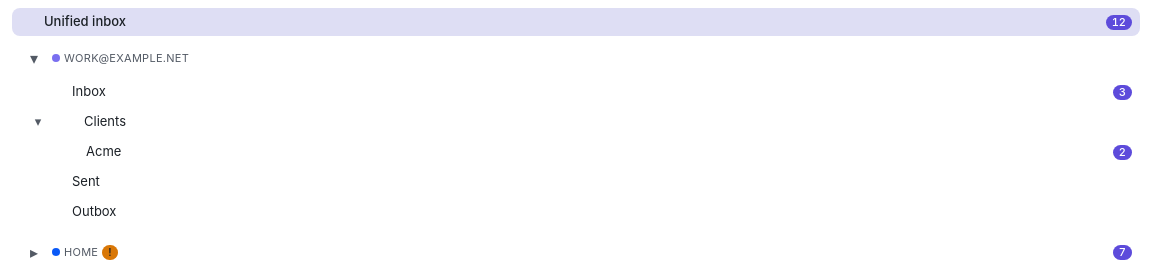
Test: the folder context menu › opens on right-click with the live verbs for an editing account
Right-click the button "Acme" at (104, 151), box [86,142,1105,162]
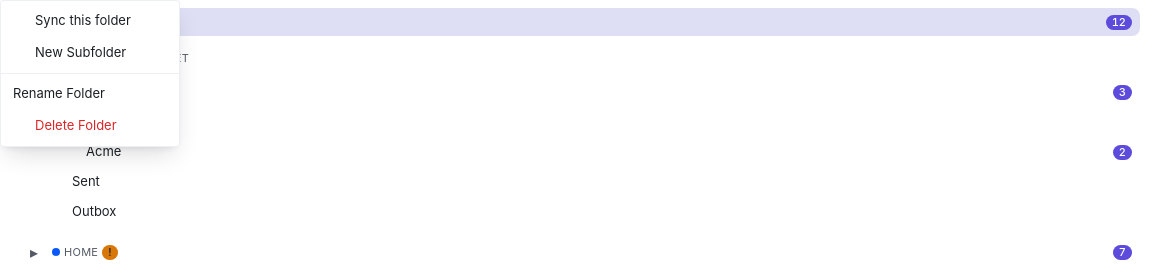
Expected: the menu is shown, [13,12,131,133]
Expected: the menu item "Sync this folder" is shown, [35,12,131,28]
Expected: the menu item "New Subfolder" is shown, [35,44,126,60]
